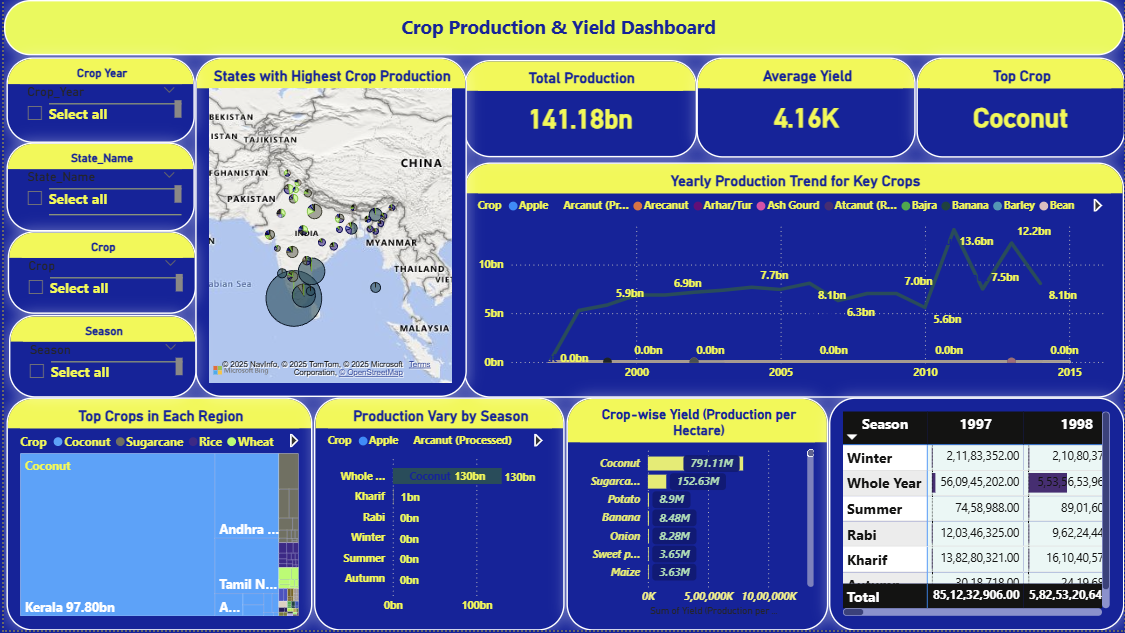

What the dashboard file says about the page in this screenshot:
{"tool":"powerbi","page":{"name":"Dashboard","canvas":[1280,720],"ordinal":6},"visuals":[{"type":"treemap","title":"Top Crops in Each Region","fields":{"Group":["Crop_prod_study Dataset-LB.Crop"],"Details":["Crop_prod_study Dataset-LB.State_Name"],"Values":["Sum(Crop_prod_study Dataset-LB.Production)"]},"box":[2.7,454.2,349.9,266.2],"z":0},{"type":"barChart","title":"Production Vary by Season","fields":{"Category":["Crop_prod_study Dataset-LB.Season"],"Y":["Sum(Crop_prod_study Dataset-LB.Production)"],"Series":["Crop_prod_study Dataset-LB.Crop"]},"box":[354,454.2,286.8,266.2],"z":1000},{"type":"lineChart","title":"Yearly Production Trend for Key Crops","fields":{"Category":["Crop_prod_study Dataset-LB.Crop_Year"],"Y":["Sum(Crop_prod_study Dataset-LB.Production)"],"Series":["Crop_prod_study Dataset-LB.Crop"]},"box":[525.6,185.2,754.7,269],"z":2000},{"type":"clusteredBarChart","title":"Crop-wise Yield (Production per Hectare)","fields":{"Category":["Crop_prod_study Dataset-LB.Crop"],"Y":["Sum(Crop_prod_study Dataset-LB.Yield (Production per Area))"]},"box":[643.6,454.2,299.1,266.2],"z":3000},{"type":"textbox","box":[0,0,1280.3,63.4],"z":4000},{"type":"card","title":"Total Production","fields":{"Values":["Sum(Crop_prod_study Dataset-LB.Production)"]},"box":[525.6,68.6,266.2,111.1],"z":5000},{"type":"card","title":"Average Yield","fields":{"Values":["Avg(Crop_prod_study Dataset-LB.Yield (Production per Area))"]},"box":[791.5,66.2,250.7,114.1],"z":6000},{"type":"card","title":"Top Crop","fields":{"Values":["Min(Crop_prod_study Dataset-LB.Crop)"]},"box":[1042.3,66.2,238,114.1],"z":7000},{"type":"map","title":"States with Highest Crop Production","fields":{"Category":["Crop_prod_study Dataset-LB.State_Name"],"Series":["Crop_prod_study Dataset-LB.Crop"],"Size":["Sum(Crop_prod_study Dataset-LB.Production)"]},"box":[218.2,65.9,310.1,388.3],"z":8000},{"type":"slicer","title":"Crop Year","fields":{"Values":["Crop_prod_study Dataset-LB.Crop_Year"]},"box":[2.7,65.9,215.4,97.4],"z":9000},{"type":"slicer","title":"State_Name","fields":{"Values":["Crop_prod_study Dataset-LB.State_Name"]},"box":[2.7,163.3,215.4,101.5],"z":10000},{"type":"slicer","title":"Crop","fields":{"Values":["Crop_prod_study Dataset-LB.Crop"]},"box":[4.1,264.8,215.4,94.7],"z":11000},{"type":"slicer","title":"Season","fields":{"Values":["Crop_prod_study Dataset-LB.Season"]},"box":[5.5,359.5,214.1,94.7],"z":12000},{"type":"pivotTable","fields":{"Values":["Sum(Crop_prod_study Dataset-LB.Production)"],"Rows":["Crop_prod_study Dataset-LB.Season"],"Columns":["Crop_prod_study Dataset-LB.Crop_Year"]},"box":[942.5,453.8,337.5,266.2],"z":13000}]}

Visuals, with their boxes in screenshot pixels (x1, y1, x2, y2), scaled from the page's 1280x720 canvas onto the 1125x633 screenshot:
"Top Crops in Each Region" treemap: <box>2,399,310,632</box>
"Production Vary by Season" barChart: <box>311,399,563,632</box>
"Yearly Production Trend for Key Crops" lineChart: <box>462,163,1124,399</box>
"Crop-wise Yield (Production per Hectare)" clusteredBarChart: <box>566,399,829,632</box>
textbox: <box>0,0,1124,56</box>
"Total Production" card: <box>462,60,696,158</box>
"Average Yield" card: <box>696,58,916,159</box>
"Top Crop" card: <box>916,58,1124,159</box>
"States with Highest Crop Production" map: <box>192,58,464,399</box>
"Crop Year" slicer: <box>2,58,192,144</box>
"State_Name" slicer: <box>2,144,192,233</box>
"Crop" slicer: <box>4,233,193,316</box>
"Season" slicer: <box>5,316,193,399</box>
pivotTable - Sum(Crop_prod_study Dataset-LB.Production) x Crop_prod_study Dataset-LB.Season: <box>828,399,1124,632</box>
